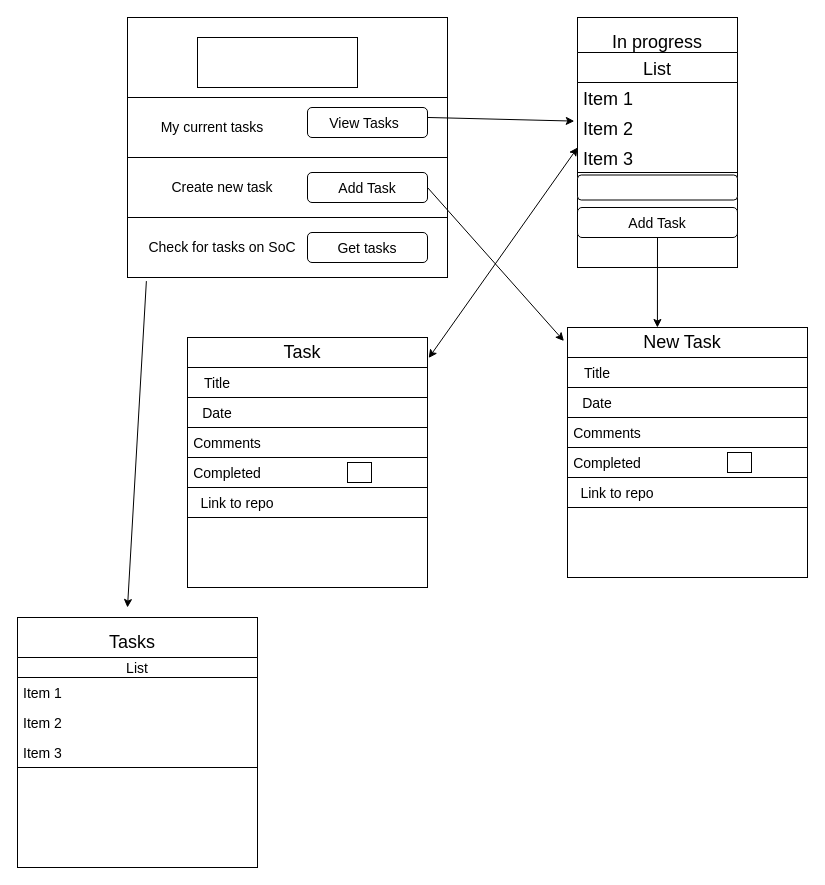
This 825x885 diagram has some shape labels left out. The shapes that lost their labels are listed below. From the top down, each one's box as (x1, y1, x2, y2) in pixels, then its label:
(196, 36, 358, 88): Task Tracker
(576, 174, 738, 200): Show completed tasks
